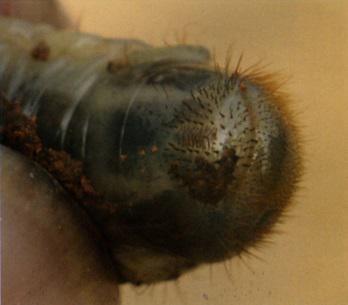grub: (46, 36, 297, 279)
